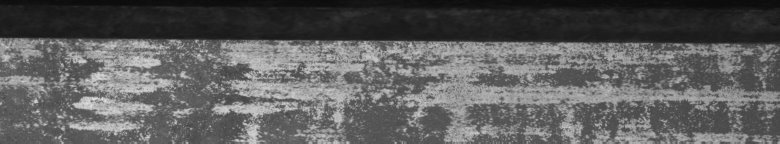kb: (4, 32, 776, 136)
